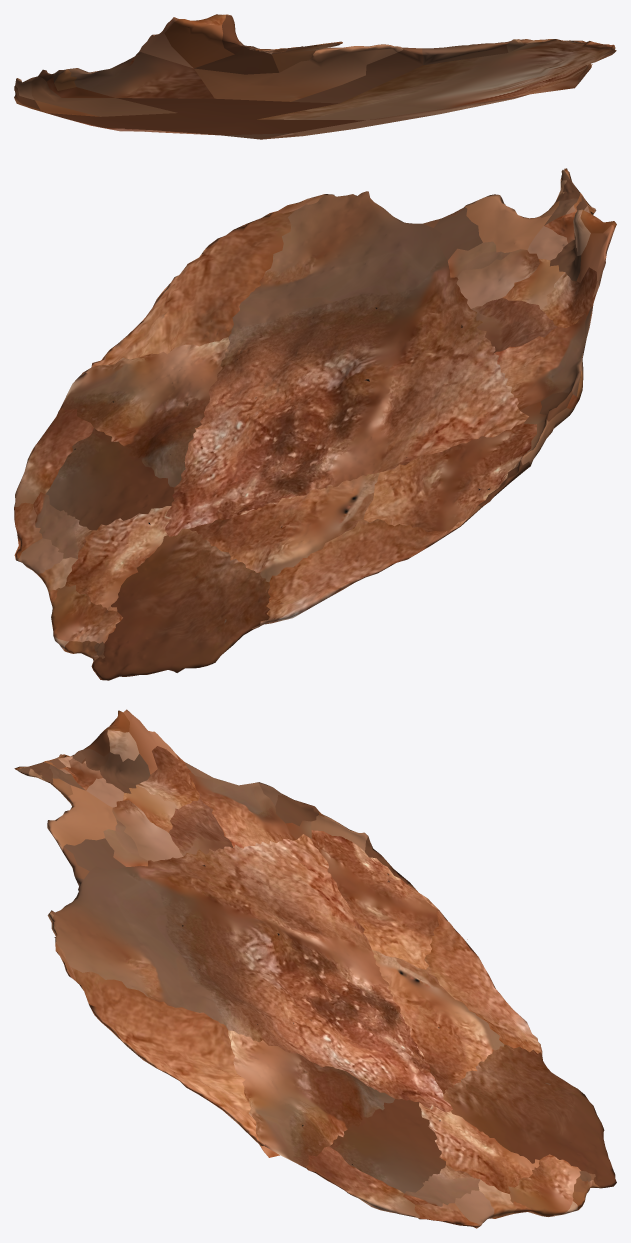
The model's file is baked_mesh.obj.
3 renders of one model, top to bottom at view 1: azimuth 30°, elevation 25°; view 2: azimuth 150°, elevation 25°; view 3: azimuth 270°, elevation 25°, orthographic. The views are drawn at different scales.
Parts seen in each view (by area): view 1: g0; view 2: g0; view 3: g0.
Part boxes in pixels (bbox=[...]): g0: bbox=[14, 14, 616, 139]; g0: bbox=[14, 168, 616, 680]; g0: bbox=[14, 709, 616, 1228].
Bounding box in the file's own units: 0.5677 × 0.368 × 0.5829.
